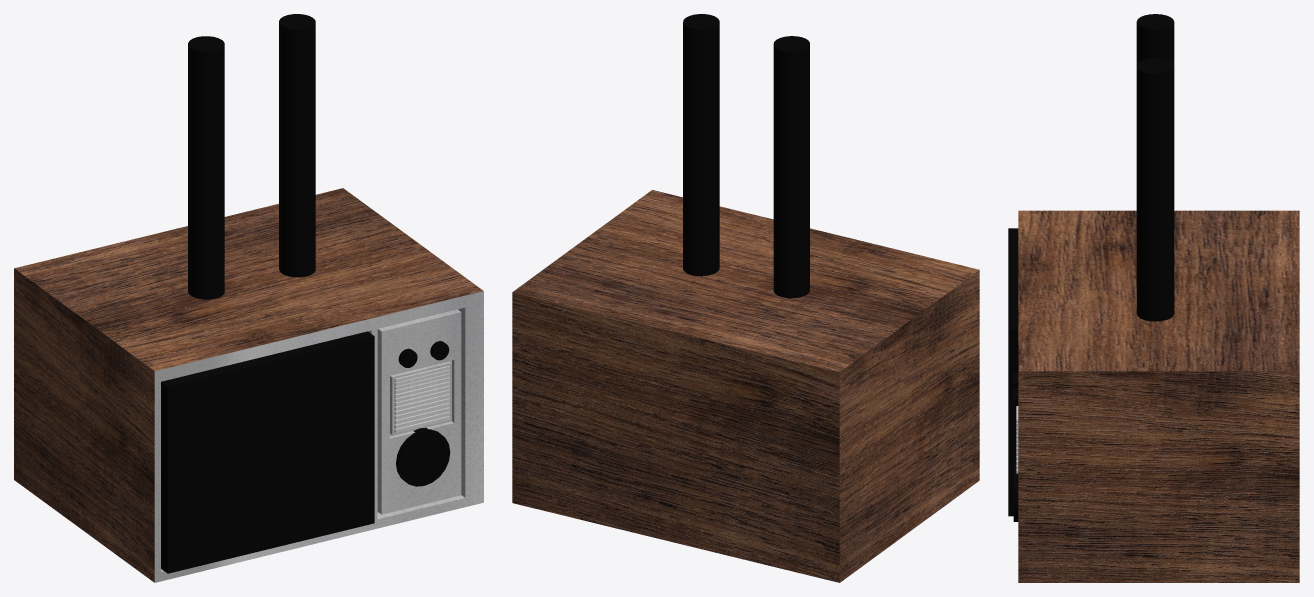
3 views of the same model, side by side, from view 1: azimuth 30°, elevation 25°; view 2: azimuth 150°, elevation 25°; view 3: azimuth 270°, elevation 25° (orthographic).
Visible parts, largest first — view 1: TV_obj, Con1, Con2, Button2; view 2: TV_obj, Con1, Con2; view 3: TV_obj, Con2, Con1.
Part boxes in pixels (x1,y1,x2,y2): TV_obj: (14, 188, 483, 582); Con1: (188, 36, 224, 299); Con2: (279, 14, 315, 277); Button2: (396, 427, 450, 486); TV_obj: (512, 190, 979, 582); Con1: (773, 36, 809, 298); Con2: (683, 14, 719, 276); TV_obj: (1008, 210, 1299, 582); Con2: (1136, 58, 1174, 321); Con1: (1136, 14, 1174, 65).
Size of the model in its own units: 3.58 by 4.78 by 2.74.
4 materials, 2 textured.
